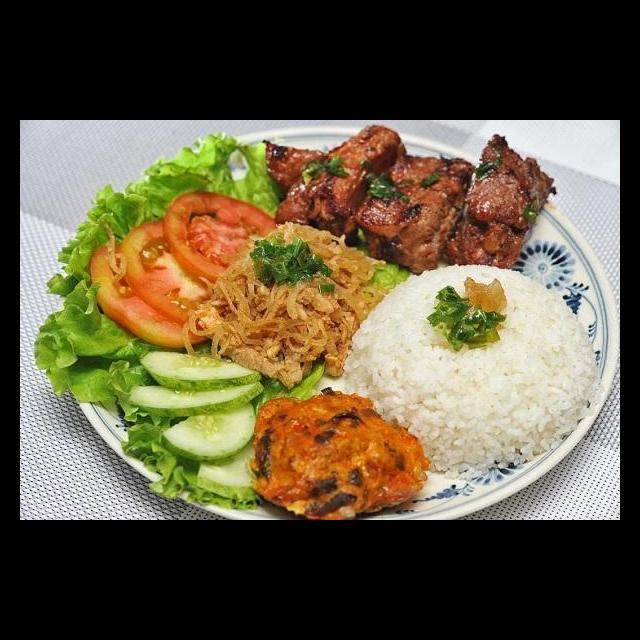bi: (180, 218, 392, 389)
com: (338, 261, 610, 483)
com suon bi trung: (39, 142, 620, 517)
suon: (259, 121, 560, 280)
trung: (245, 385, 432, 520)
